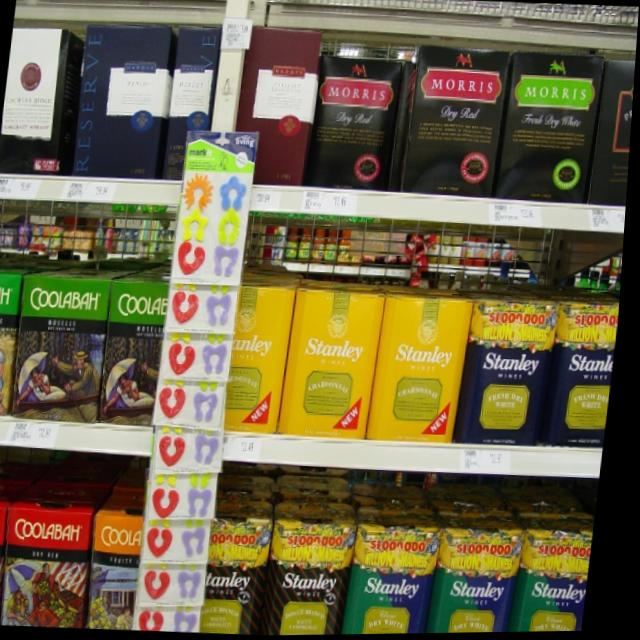q61: (1, 491, 109, 630), (0, 493, 16, 626)
